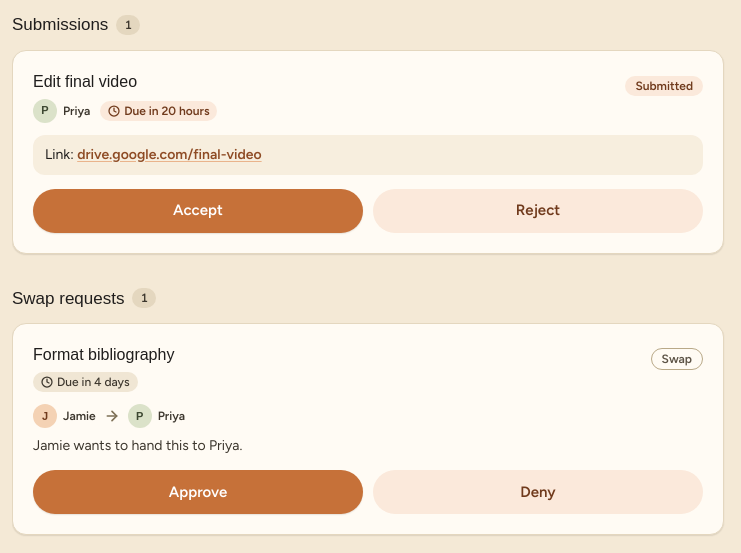
Test case: review access and swaps › denies a swap, leaving the task with the requester
Click the button "Deny".
click(538, 492)  # box [373, 470, 703, 514]
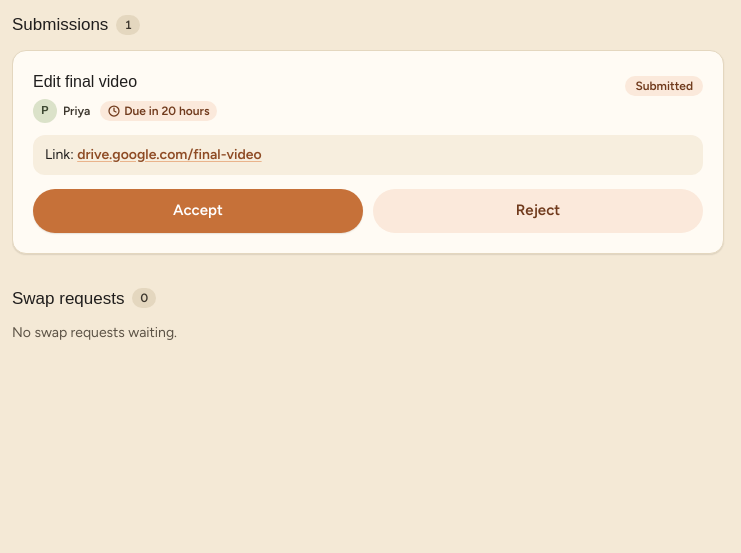
Expected: the text "No swap requests waiting." is shown, [12, 324, 177, 341]
